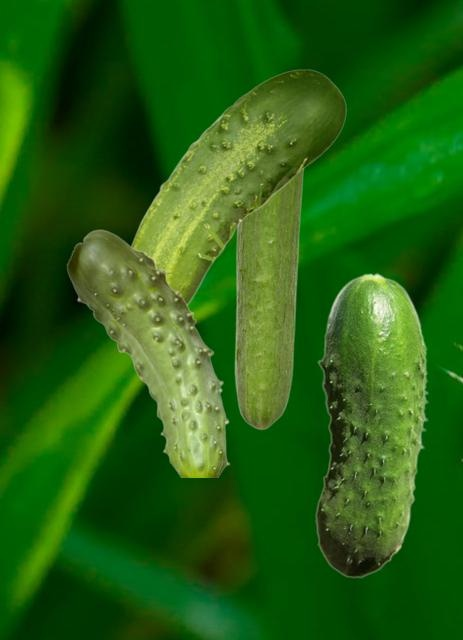cucumber: (131, 69, 345, 305), (66, 229, 229, 476), (315, 272, 428, 577), (234, 169, 304, 429)
